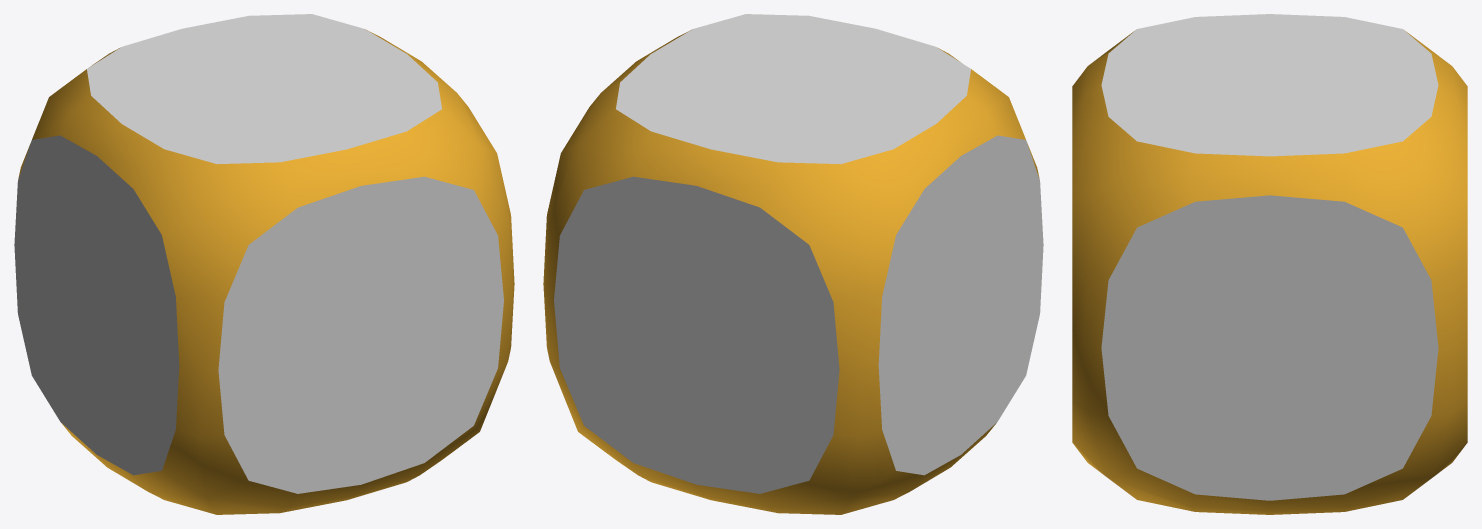
The model's file is Dice_2.fbx.
3 views of the same model, side by side, from view 1: azimuth 30°, elevation 25°; view 2: azimuth 150°, elevation 25°; view 3: azimuth 270°, elevation 25° (orthographic). The views are drawn at different scales.
Parts seen in each view (by area): view 1: Cube.025; view 2: Cube.025; view 3: Cube.025.
Part boxes in pixels (x1,y1,x2,y2): Cube.025: (14, 14, 514, 514); Cube.025: (543, 14, 1043, 514); Cube.025: (1072, 14, 1467, 514).
Bounding box in the file's own units: 200 × 200 × 200.
